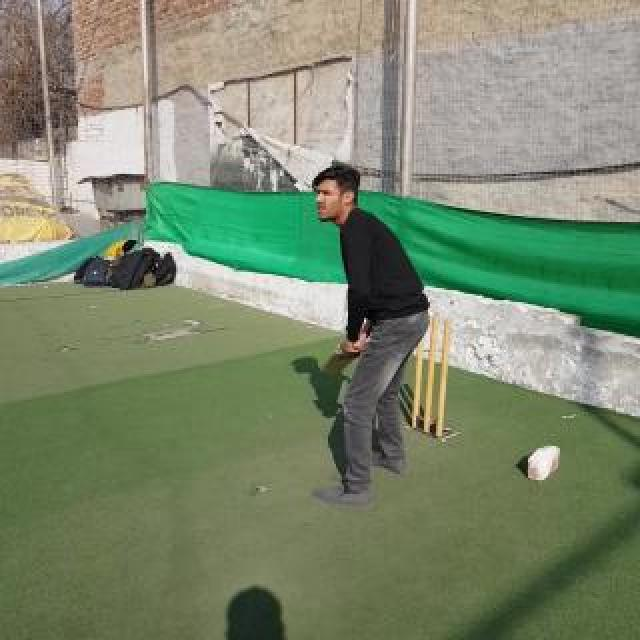bat: (321, 342, 361, 374)
